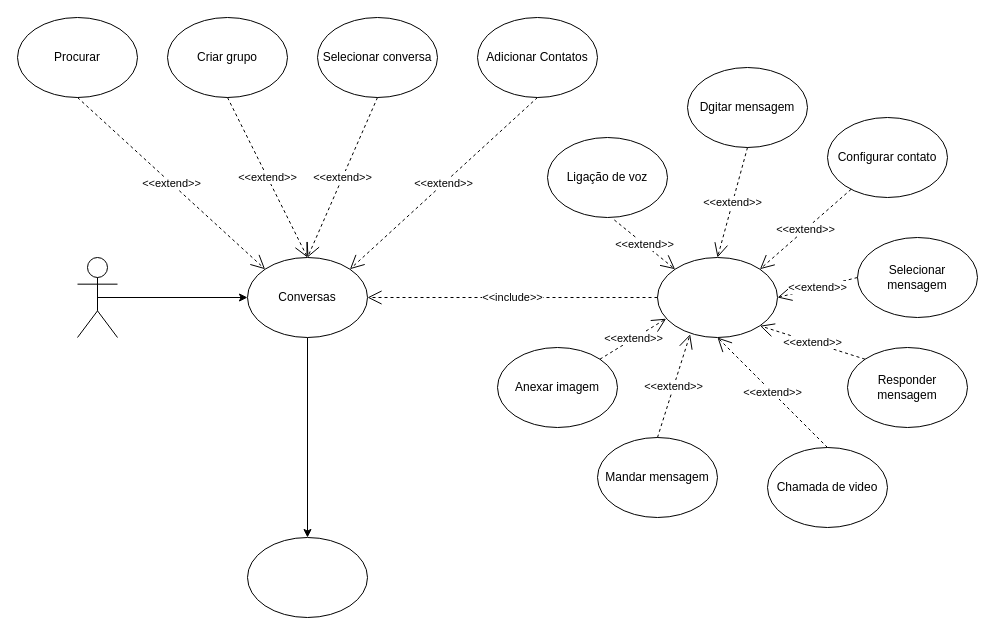
Image size: 995x635. Some labels were removed from this diagram. Here are the shapes that lost their labels. From the top down, the centre of each, then its label:
At (97,297): "Usuário".
At (717,297): "Chat".
At (307,577): "Aplicação".
